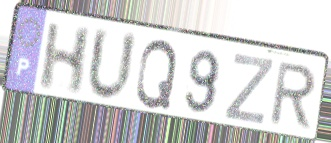9: (186, 48, 222, 116)
H: (36, 21, 94, 97)
Q: (133, 37, 180, 111)
R: (266, 60, 320, 132)
U: (85, 24, 140, 105)
Z: (221, 52, 276, 127)
